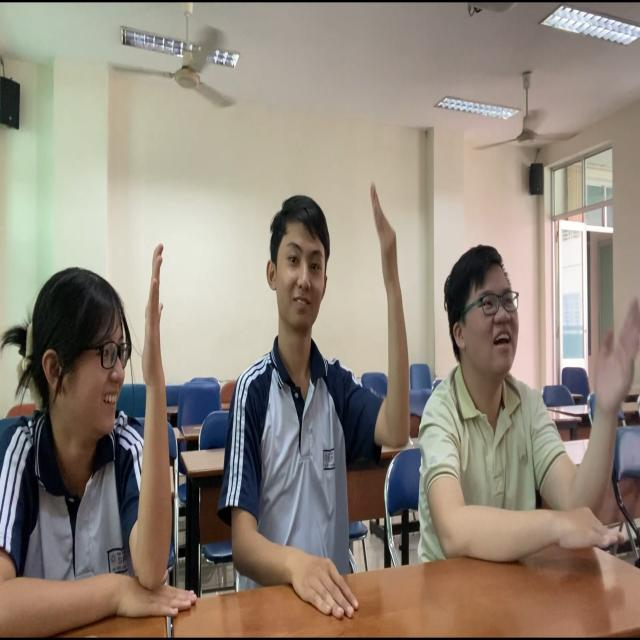raise_hand: (419, 243, 640, 627), (1, 226, 178, 640)
